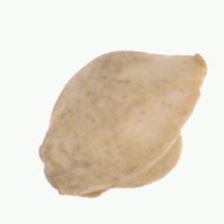L1: (39, 155, 76, 196), (184, 51, 208, 87)
L2: (38, 50, 206, 199)
